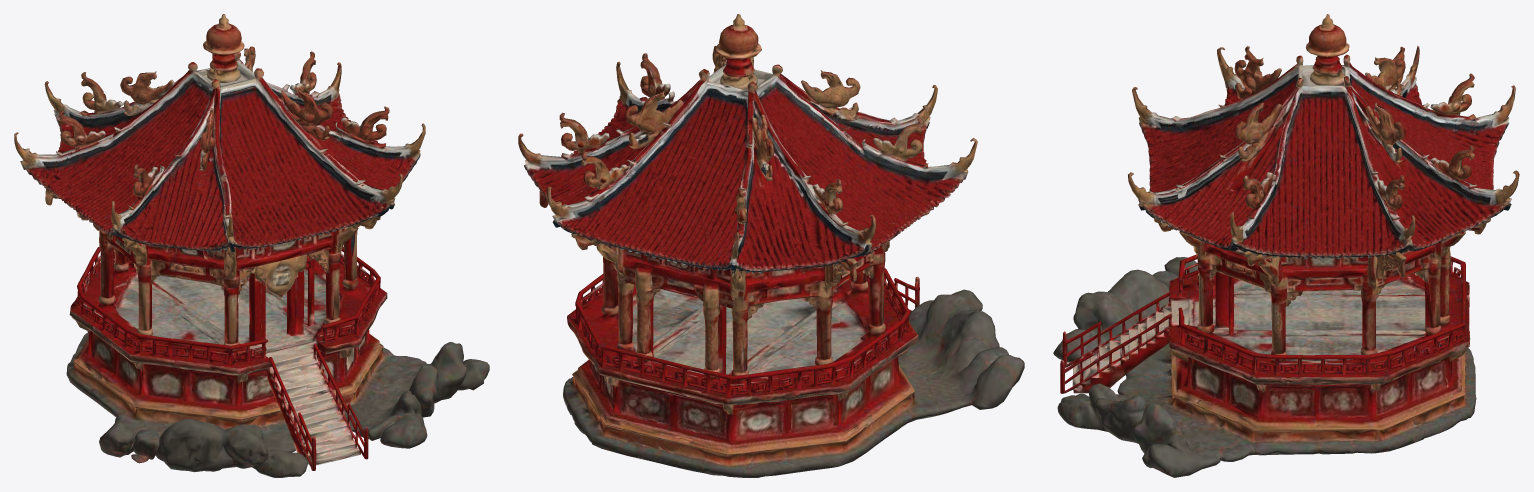
File: serpentine_sky_run_port_serpPavilion.glb
The picture shows the model from 3 angles, left to right: view 1: azimuth 30°, elevation 25°; view 2: azimuth 150°, elevation 25°; view 3: azimuth 270°, elevation 25°; orthographic projection. The views are drawn at different scales.
Size of the model in its own units: 1.84 by 1.67 by 1.9.
1 material, 1 textured.
